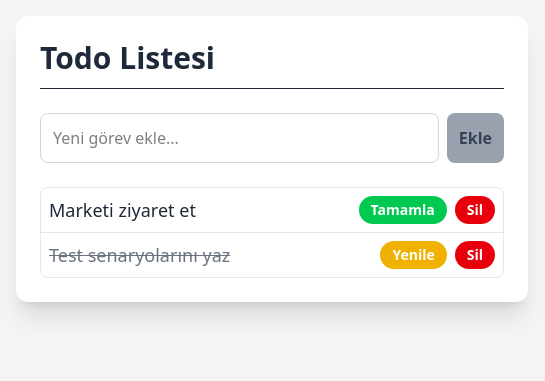
it: template spec › Kullanıcı enter tuşuna bastığında ekleme yapıyor mu
Type "Fatura edemesin yapıldı" into the field with test id "new-todo-input".
click(240, 138); type("Fatura edemesin yapıldı")  # box [40,113,439,163]
Then press Enter
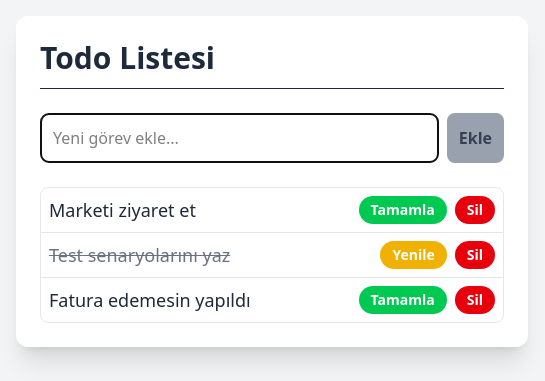
Now the number of list items is 3, box [41,188,503,233]; [41,233,503,278]; [41,278,503,322]
